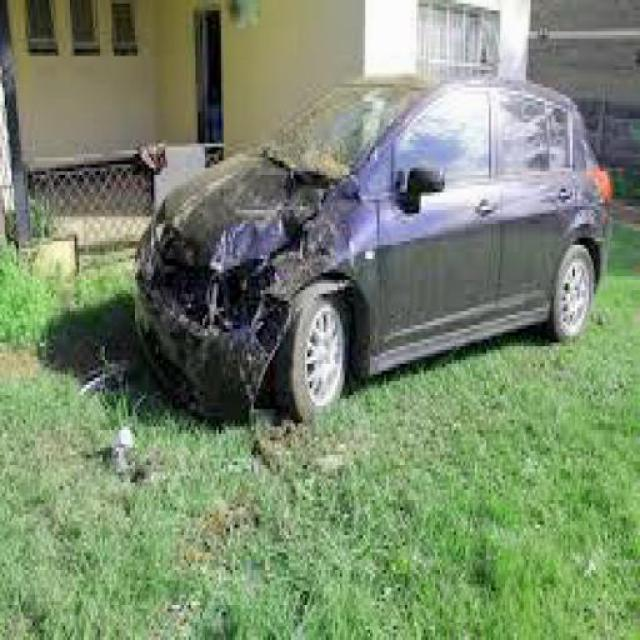car damage: (134, 135, 365, 419)
